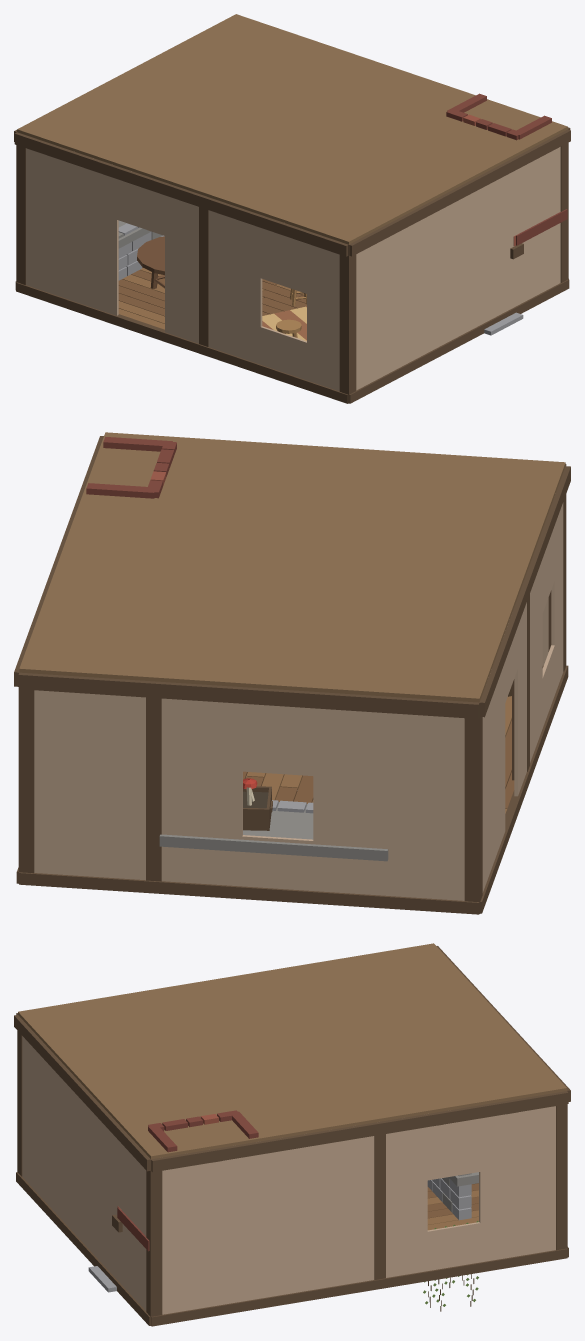
Rendered from HedrigInterior.glb.
The picture shows the model from 3 angles, top to bottom: view 1: azimuth 30°, elevation 25°; view 2: azimuth 150°, elevation 25°; view 3: azimuth 270°, elevation 25°; orthographic projection. The views are drawn at different scales.
Parts seen in each view (by area): view 1: HedrigMurosInterior, HedrigCielo, HedrigPisoInterior, HedrigChimeneaInterior, HedrigRepisa, HedrigMesa, HedrigAlfombra, HedrigTaburetes; view 2: HedrigCielo, HedrigMurosInterior, HedrigRepisa, HedrigChimeneaInterior, HedrigPisoInterior, HedrigCajaHongos; view 3: HedrigMurosInterior, HedrigCielo, HedrigChimeneaInterior, HedrigRepisa, HedrigPisoInterior.
Part boxes in pixels (left/top/right/bottom): HedrigMurosInterior: left=14, top=127, right=570, bottom=403; HedrigCielo: left=17, top=14, right=567, bottom=244; HedrigPisoInterior: left=118, top=267, right=306, bottom=329; HedrigChimeneaInterior: left=446, top=93, right=567, bottom=335; HedrigRepisa: left=118, top=220, right=164, bottom=280; HedrigMesa: left=137, top=236, right=164, bottom=288; HedrigAlfombra: left=262, top=306, right=306, bottom=341; HedrigTaburetes: left=276, top=288, right=306, bottom=337; HedrigCielo: left=19, top=432, right=565, bottom=702; HedrigMurosInterior: left=14, top=436, right=570, bottom=914; HedrigRepisa: left=159, top=800, right=388, bottom=861; HedrigChimeneaInterior: left=86, top=436, right=176, bottom=498; HedrigPisoInterior: left=243, top=696, right=514, bottom=813; HedrigCajaHongos: left=243, top=778, right=272, bottom=830; HedrigMurosInterior: left=14, top=946, right=570, bottom=1326; HedrigCielo: left=18, top=943, right=566, bottom=1162; HedrigChimeneaInterior: left=88, top=1110, right=258, bottom=1292; HedrigRepisa: left=427, top=1172, right=478, bottom=1220; HedrigPisoInterior: left=427, top=1183, right=478, bottom=1230.
Size of the model in its own units: 9.06 by 4.12 by 9.86.
